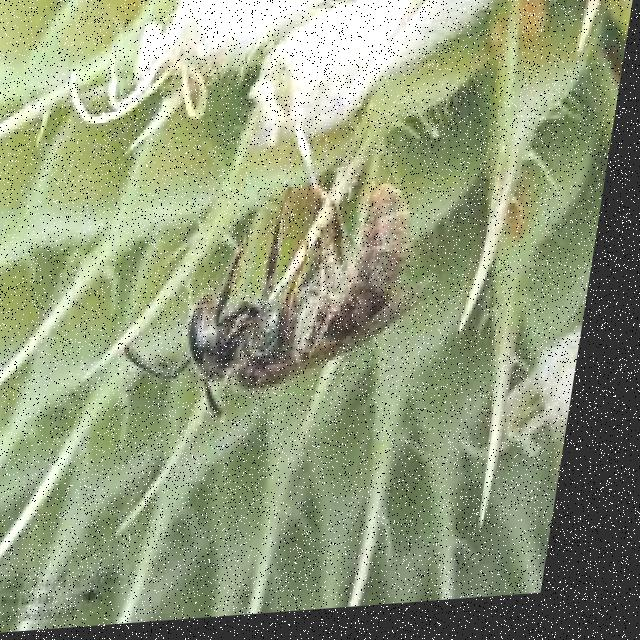Lasioglossum: (130, 180, 467, 425)
